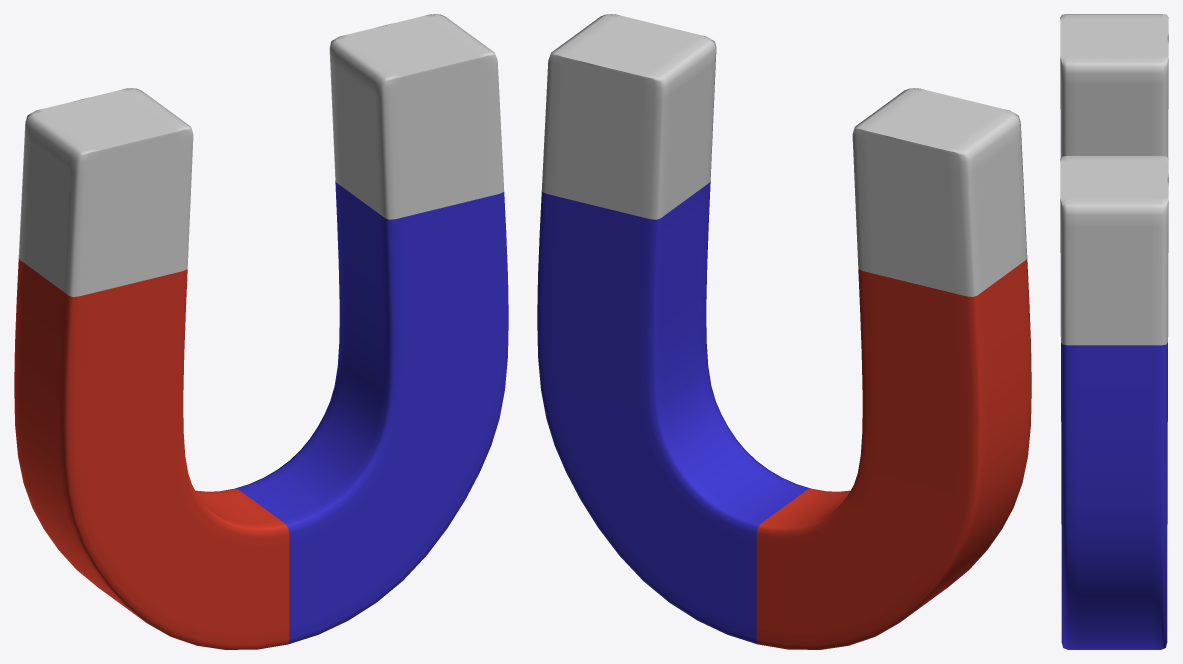
The model's file is Magnet.fbx.
3 views of the same model, side by side, from view 1: azimuth 30°, elevation 25°; view 2: azimuth 150°, elevation 25°; view 3: azimuth 270°, elevation 25° (orthographic). The views are drawn at different scales.
Parts seen in each view (by area): view 1: Cube.001; view 2: Cube.001; view 3: Cube.001.
Part boxes in pixels (x1,y1,x2,y2): Cube.001: (14,14,508,649); Cube.001: (537,14,1031,649); Cube.001: (1060,14,1168,649).
Size of the model in its own units: 65.91 by 77.03 by 14.58.
